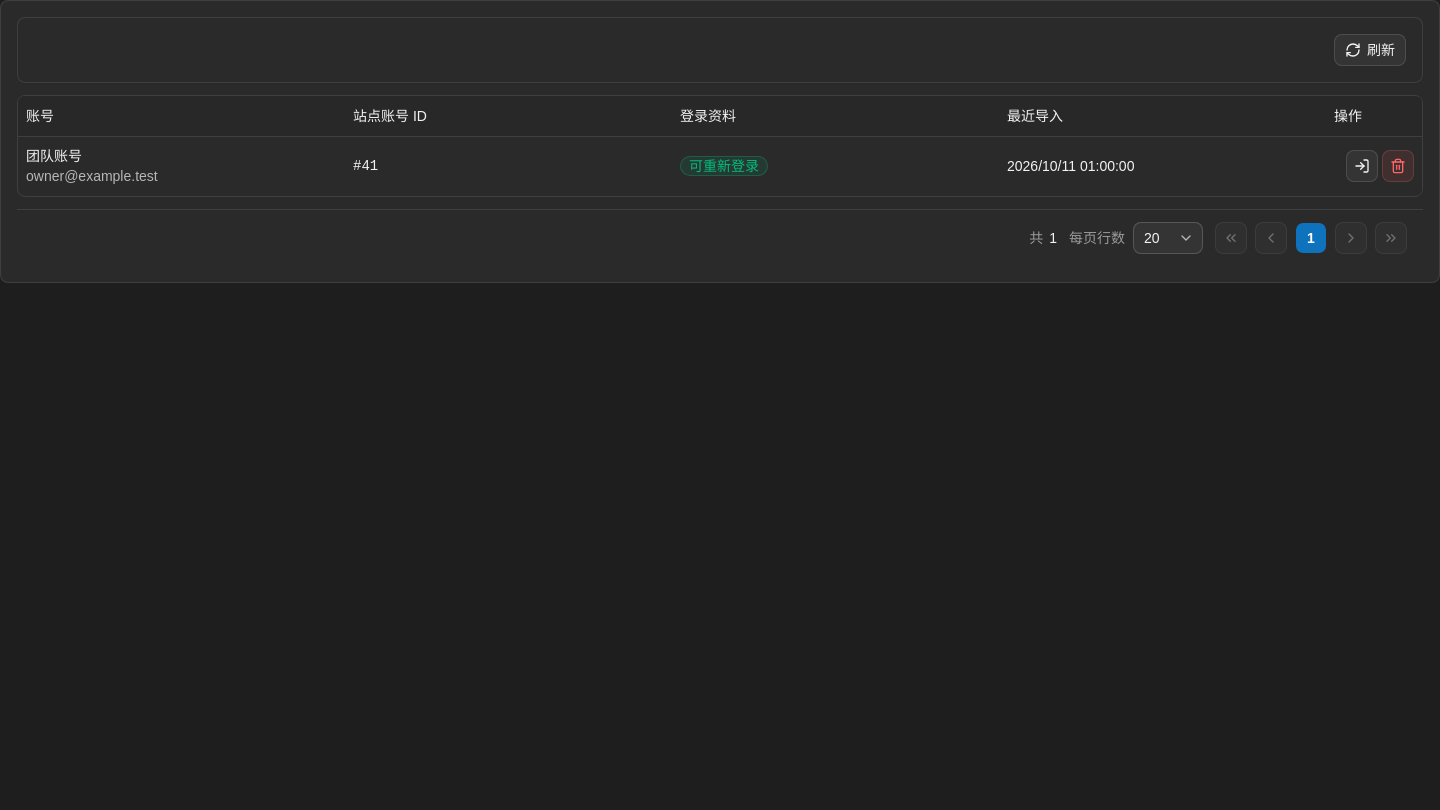
Test: 关闭重新登录核对弹窗会取消读取，迟到结果不能重开预览
Click the button named "重新登录 owner@example.test": (1362, 166) [1346,150,1378,182]
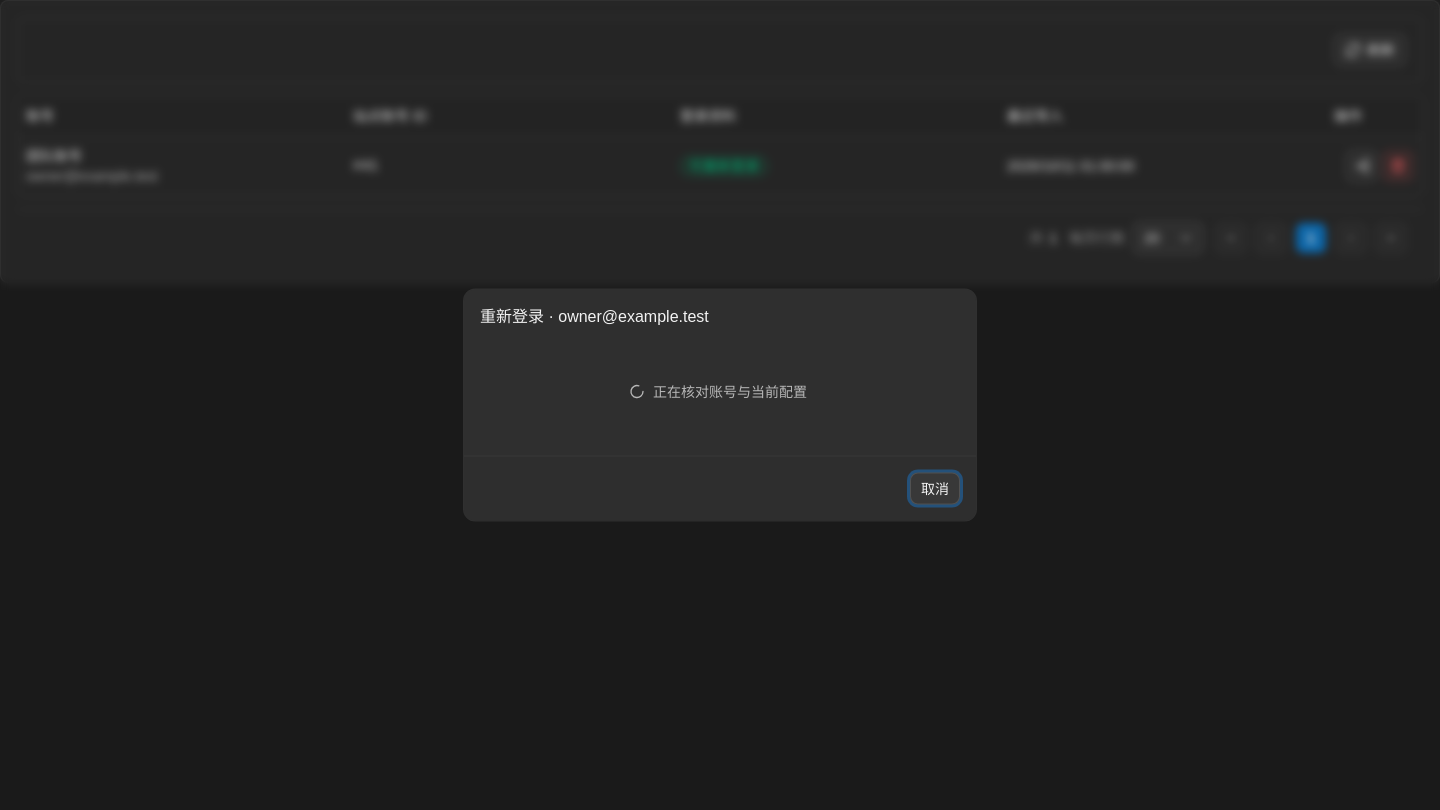
Check: the message "正在核对账号与当前配置" is shown, box [629,384,807,400]
Click the button "取消": (935, 488) [910,472,960,504]
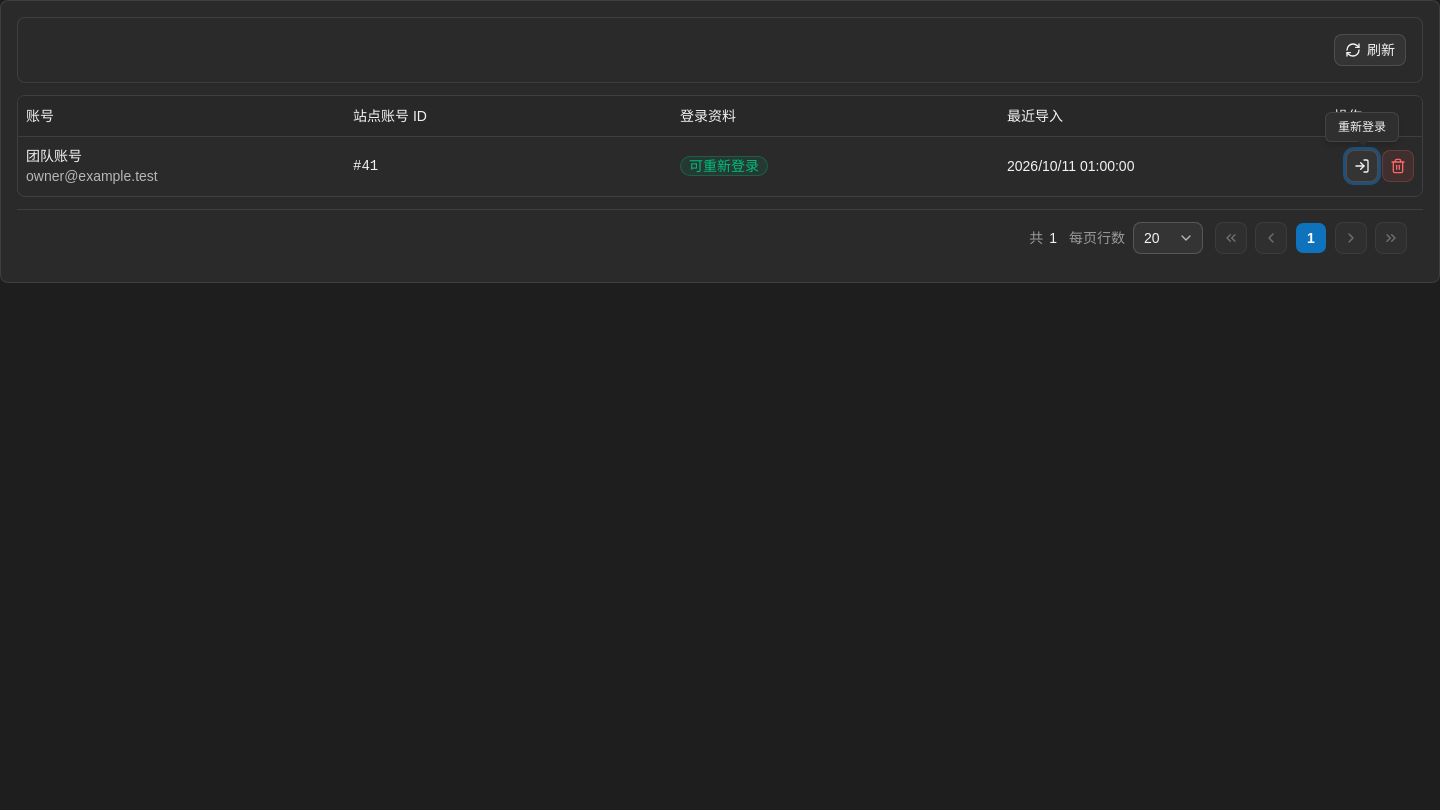
Check: the dialog is gone
